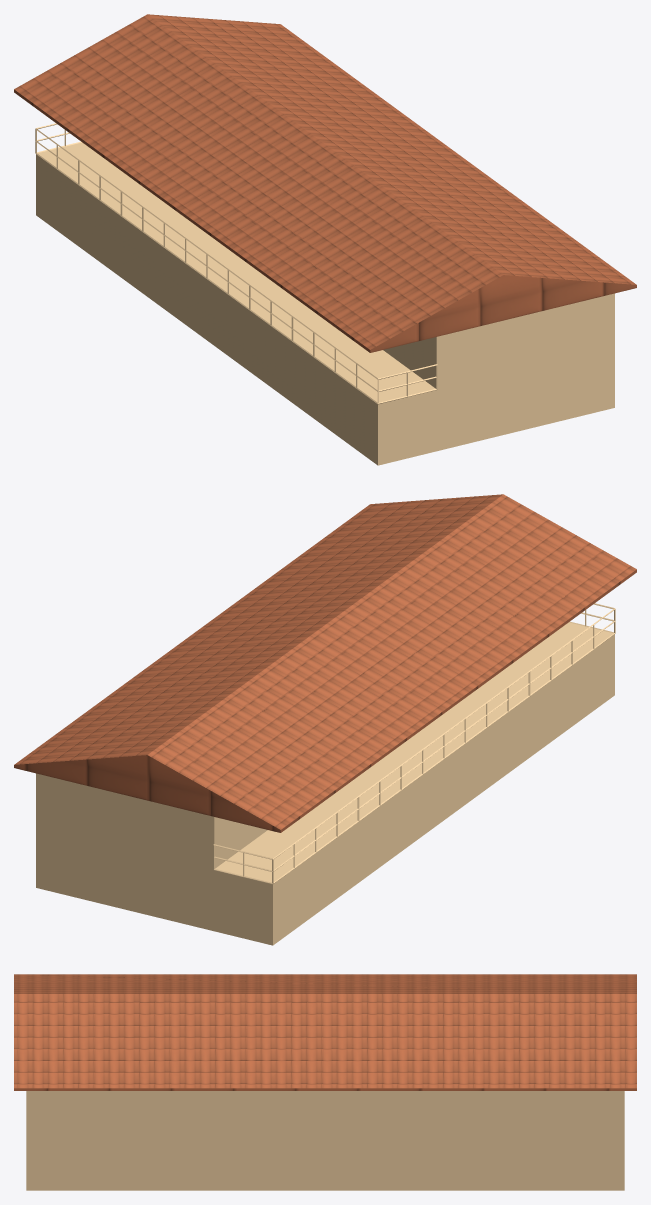
The model's file is building.glb.
The picture shows the model from 3 angles, top to bottom: view 1: azimuth 30°, elevation 25°; view 2: azimuth 150°, elevation 25°; view 3: azimuth 270°, elevation 25°; orthographic projection. The views are drawn at different scales.
Visible parts, largest first — view 1: Cube.001, Cube, Cube.002; view 2: Cube.001, Cube, Cube.002; view 3: Cube.001, Cube.
Part boxes in pixels (left/top/right/bottom): Cube.001: left=14, top=14, right=636, bottom=352; Cube: left=36, top=142, right=614, bottom=465; Cube.002: left=35, top=123, right=437, bottom=404; Cube.001: left=14, top=494, right=636, bottom=832; Cube: left=36, top=622, right=614, bottom=945; Cube.002: left=213, top=603, right=615, bottom=884; Cube.001: left=14, top=974, right=636, bottom=1090; Cube: left=26, top=1091, right=624, bottom=1190.
Size of the model in its own units: 4.5 by 2.69 by 10.41.
Materials: 2 (1 with a texture image).
